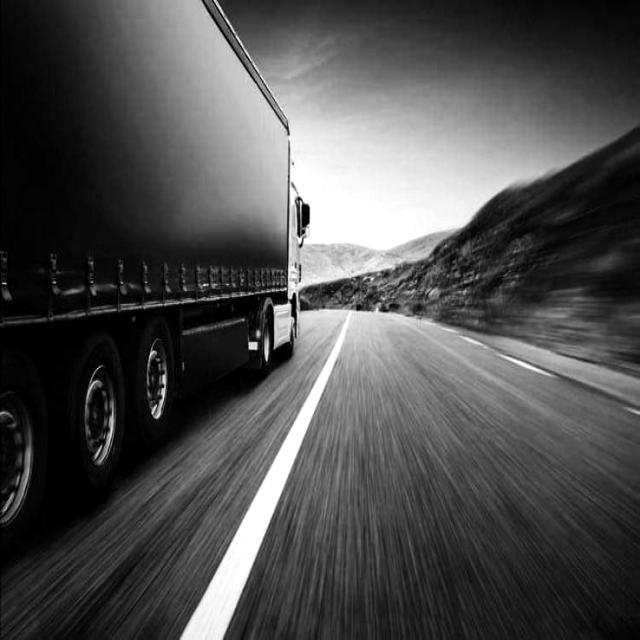cleat: (182, 221, 640, 640)
